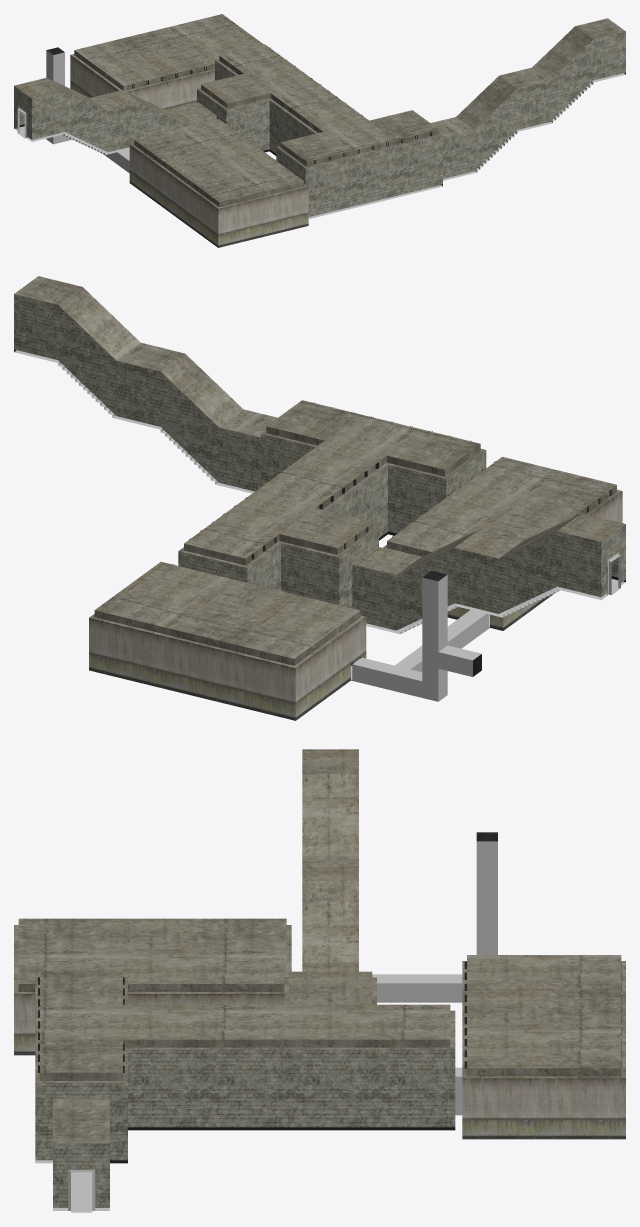
File: Basement_Section.FBX
3 renders of one model, top to bottom at view 1: azimuth 30°, elevation 25°; view 2: azimuth 150°, elevation 25°; view 3: azimuth 270°, elevation 25°, orthographic. The views are drawn at different scales.
Visible parts, largest first — view 1: Basement_Section; view 2: Basement_Section; view 3: Basement_Section.
Boxes of the visible parts, x1,y1,x2,y2 form: Basement_Section: (14,14,625,247); Basement_Section: (14,276,625,720); Basement_Section: (14,749,625,1212).
Size of what is drawn, in the model's own units: 5197 by 1011 by 3386.
